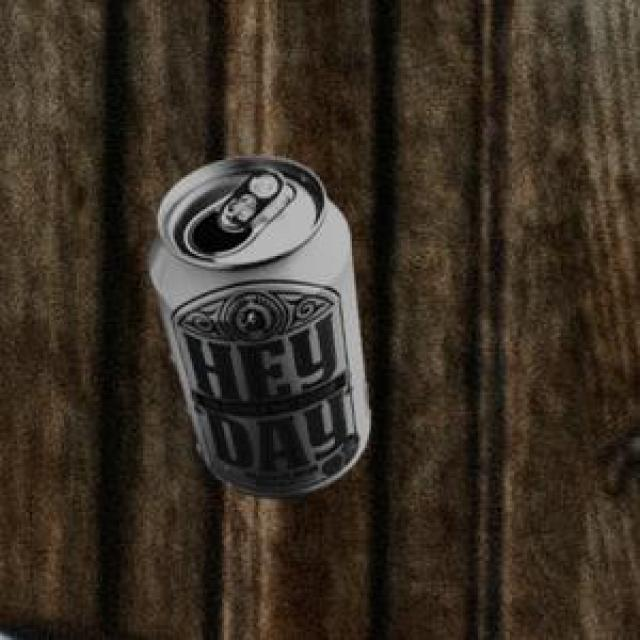logam: (146, 153, 368, 496)
